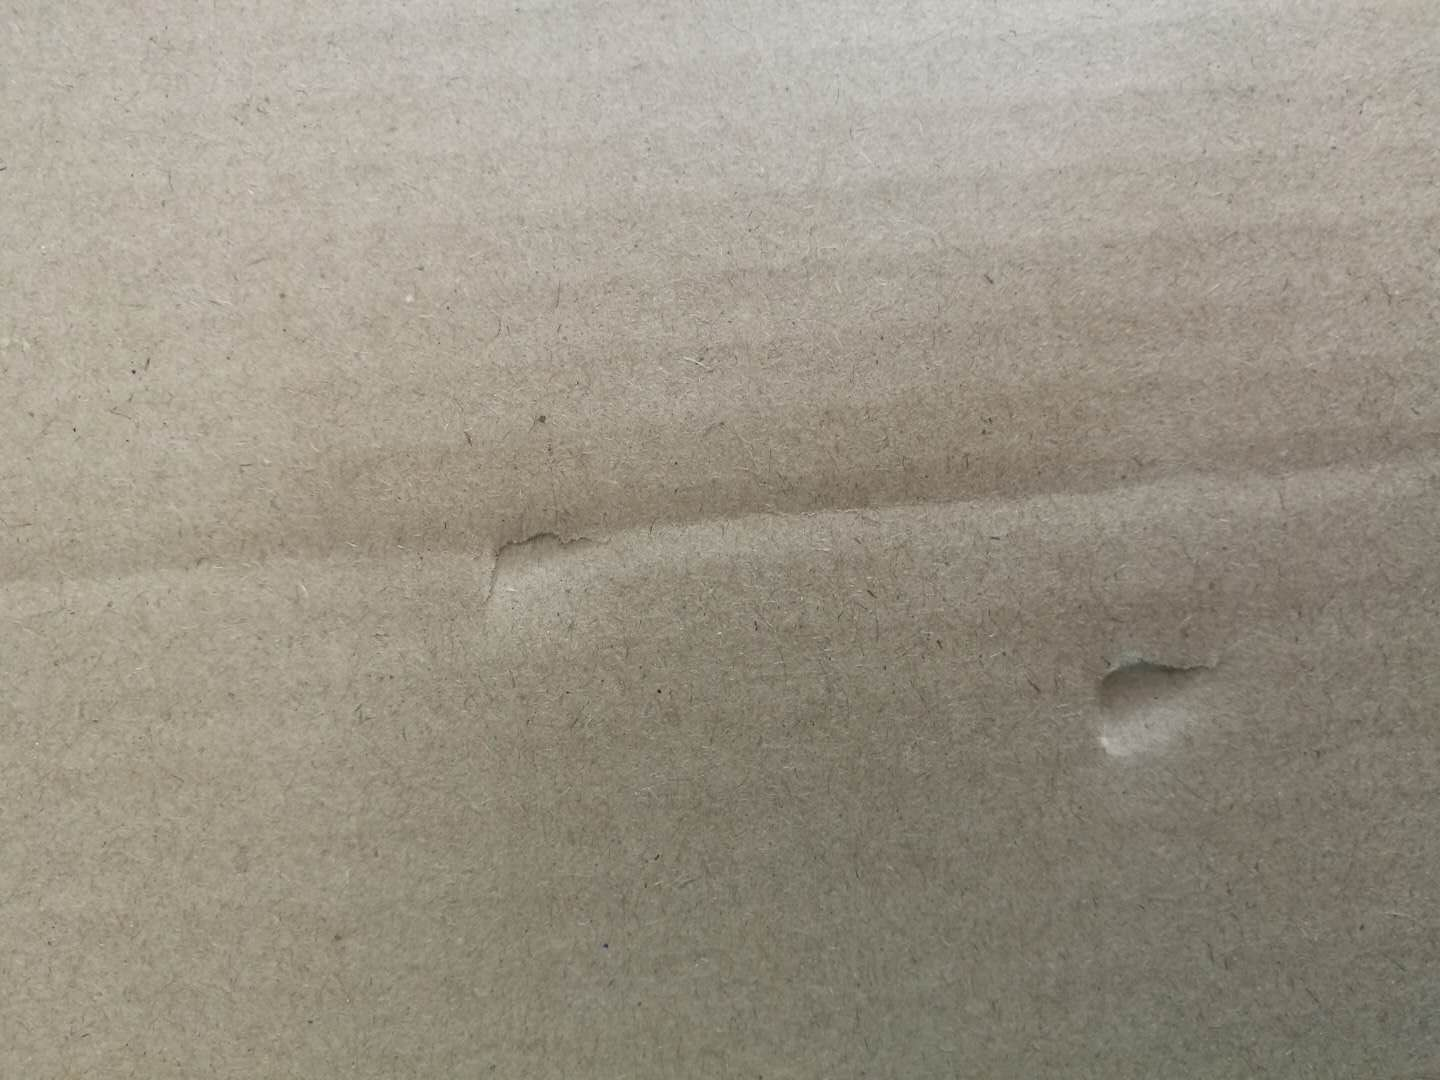defect: (1, 417, 1440, 604), (452, 482, 626, 646), (1074, 632, 1240, 781)
